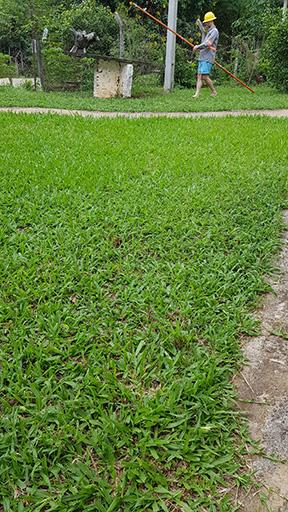Vara_Manobra: (134, 3, 255, 93)
